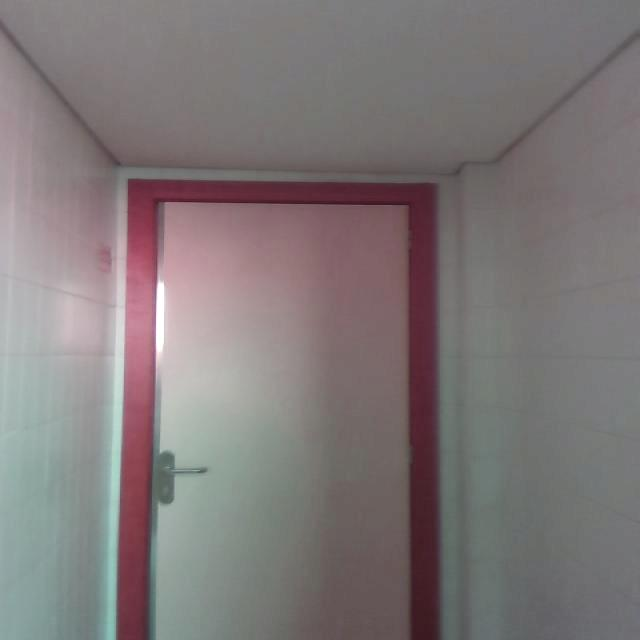door: (126, 177, 444, 640)
